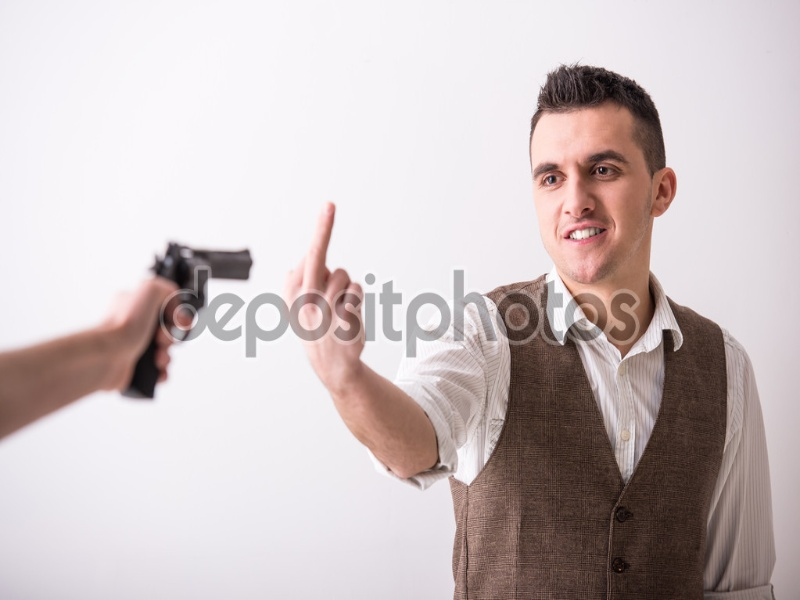gun: (110, 234, 253, 411)
